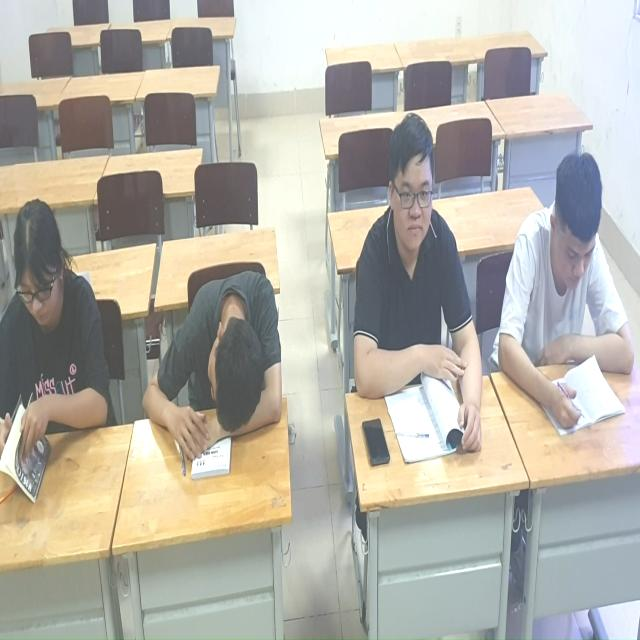read: (325, 111, 490, 455), (496, 116, 634, 427), (1, 160, 114, 518)
sleep: (139, 232, 283, 473)
